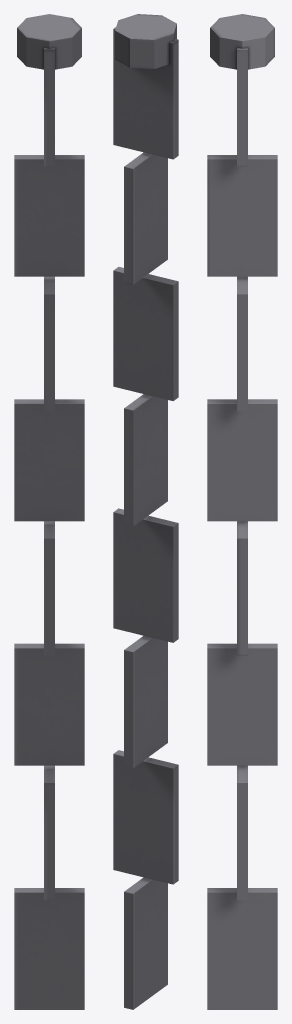
The model's file is chain.glb.
The picture shows the model from 3 angles, left to right: view 1: azimuth 90°, elevation 25°; view 2: azimuth 150°, elevation 25°; view 3: azimuth 270°, elevation 25°; orthographic projection.
Visible parts, largest first — view 1: chain; view 2: chain; view 3: chain.
Part boxes in pixels (<box>): chain: <box>14,14,84,1009</box>; chain: <box>113,14,178,1009</box>; chain: <box>207,14,277,1009</box>.
Size of the model in its own units: 0.13 by 2.01 by 0.13.
Materials: 1 (1 with a texture image).
